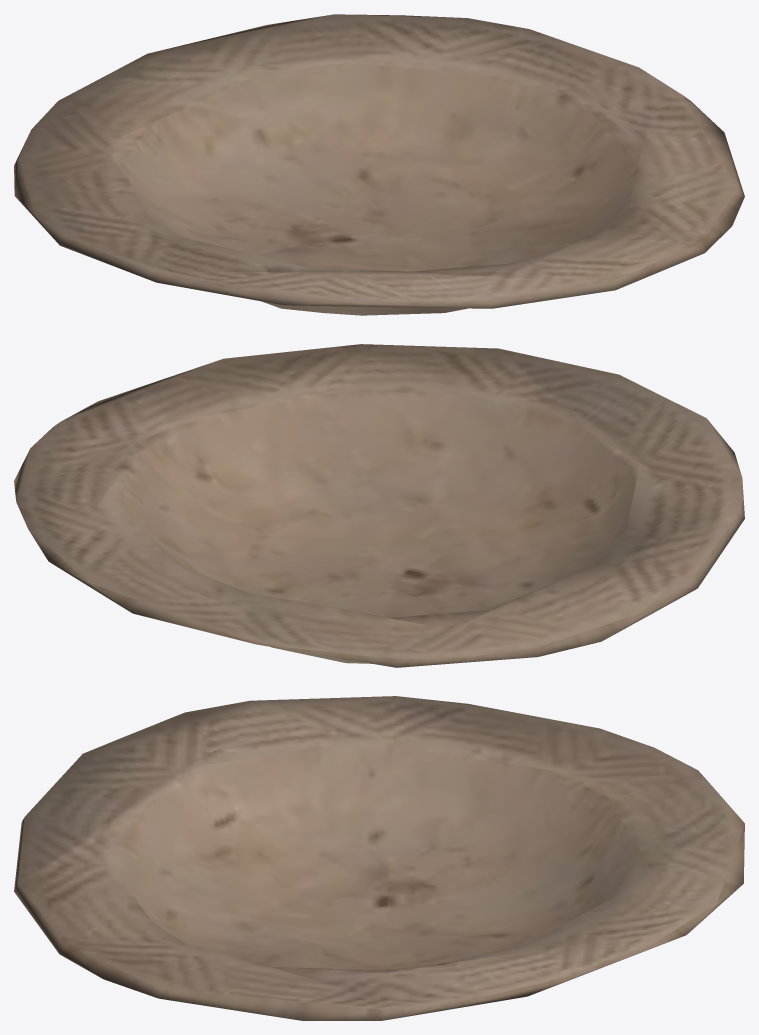
Rendered from carved_wooden_plate.glb.
3 renders of one model, top to bottom at view 1: azimuth 30°, elevation 25°; view 2: azimuth 150°, elevation 25°; view 3: azimuth 270°, elevation 25°, orthographic. The views are drawn at different scales.
Parts seen in each view (by area): view 1: carved_wooden_plate; view 2: carved_wooden_plate; view 3: carved_wooden_plate.
Boxes of the visible parts, bbox=[...] form: carved_wooden_plate: bbox=[14, 14, 744, 315]; carved_wooden_plate: bbox=[14, 344, 744, 667]; carved_wooden_plate: bbox=[14, 696, 744, 1020].
Size of the model in its own units: 0.2718 by 0.037 by 0.2648.
Materials: 1 (1 with a texture image).
